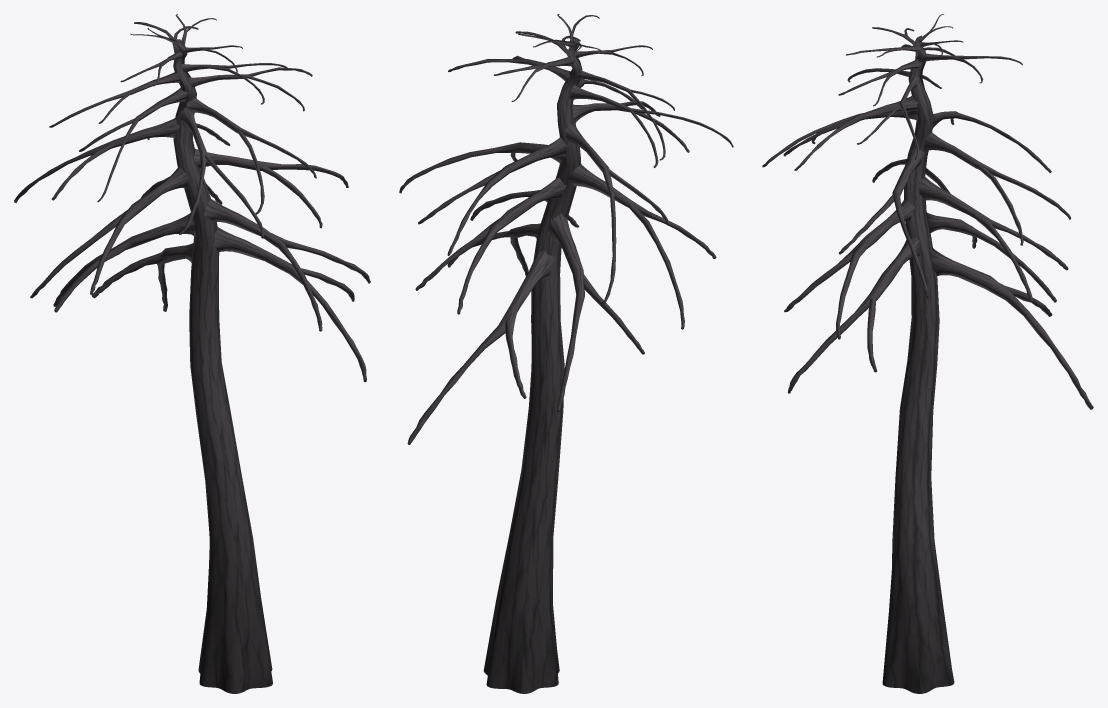
File: dead-tree-transformed.glb
3 views of the same model, side by side, from view 1: azimuth 30°, elevation 25°; view 2: azimuth 150°, elevation 25°; view 3: azimuth 270°, elevation 25° (orthographic). The views are drawn at different scales.
Visible parts, largest first — view 1: DeadTree_3; view 2: DeadTree_3; view 3: DeadTree_3.
Boxes of the visible parts, x1,y1,x2,y2 form: DeadTree_3: (14, 14, 370, 693); DeadTree_3: (399, 14, 733, 693); DeadTree_3: (762, 14, 1093, 693).
Bounding box in the file's own units: 6.39 × 13.28 × 6.43.
1 material, 1 textured.
